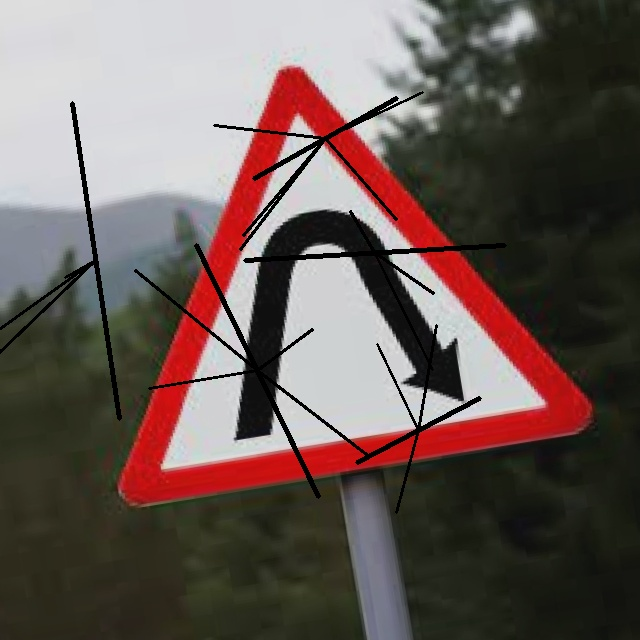Right_Hair_Pin_Bend: (61, 30, 587, 501)
